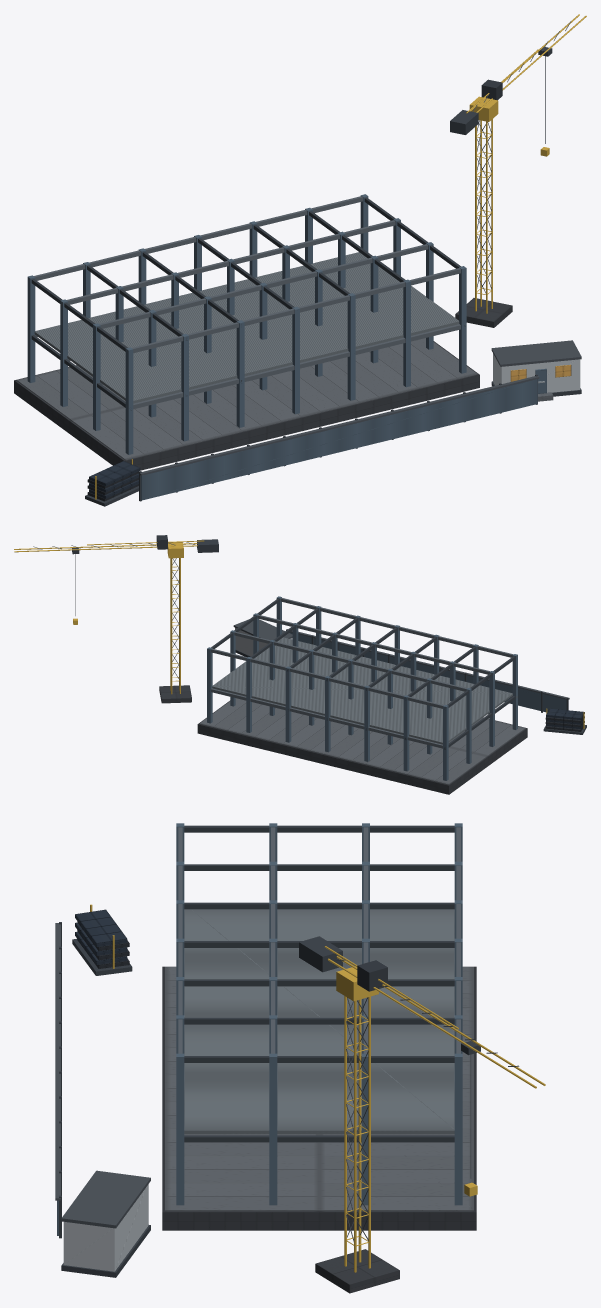
File: trg-5-construction.glb
The picture shows the model from 3 angles, top to bottom: view 1: azimuth 30°, elevation 25°; view 2: azimuth 150°, elevation 25°; view 3: azimuth 270°, elevation 25°; orthographic projection. The views are drawn at different scales.
Bounding box in the file's own units: 56.02 × 18.75 × 25.74.
Materials: 19 (11 with a texture image).
